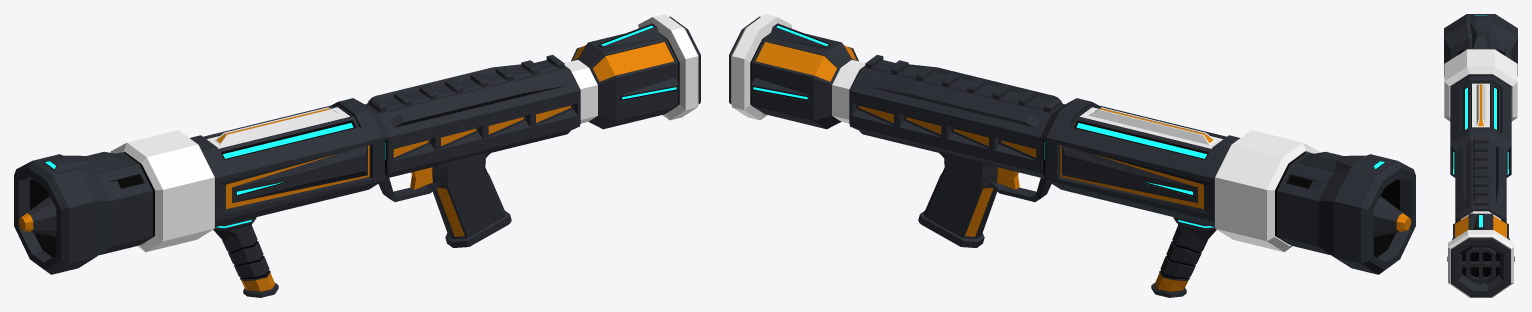
The model's file is SM_Rocket_Launcher.fbx.
The picture shows the model from 3 angles, left to right: view 1: azimuth 30°, elevation 25°; view 2: azimuth 150°, elevation 25°; view 3: azimuth 270°, elevation 25°; orthographic projection. The views are drawn at different scales.
Parts seen in each view (by area): view 1: SM_Rocket_Launcher, SM_Rocket; view 2: SM_Rocket_Launcher, SM_Rocket; view 3: SM_Rocket_Launcher.
Boxes of the visible parts, x1,y1,x2,y2 form: SM_Rocket_Launcher: [14, 14, 700, 297]; SM_Rocket: [19, 196, 56, 236]; SM_Rocket_Launcher: [729, 14, 1415, 297]; SM_Rocket: [1373, 196, 1410, 236]; SM_Rocket_Launcher: [1444, 14, 1517, 297].
Bounding box in the file's own units: 129 × 33.91 × 17.91.
